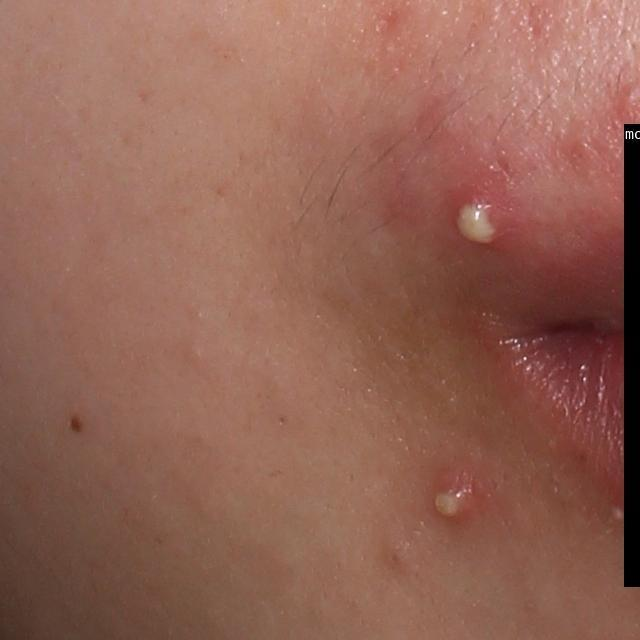comedo: (178, 345, 209, 366)
nevus: (68, 411, 87, 434)
pustule: (439, 174, 536, 268), (423, 464, 481, 529), (607, 502, 630, 524)
